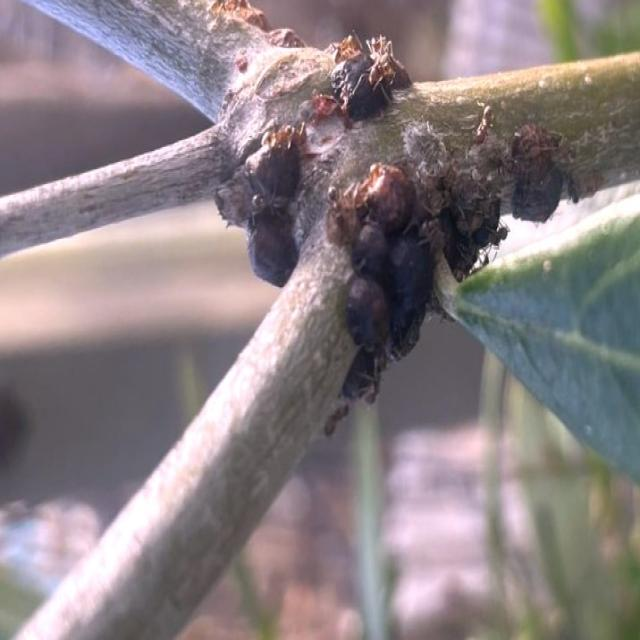Black Scale: (329, 125, 564, 398), (215, 121, 306, 286), (331, 32, 394, 119)
